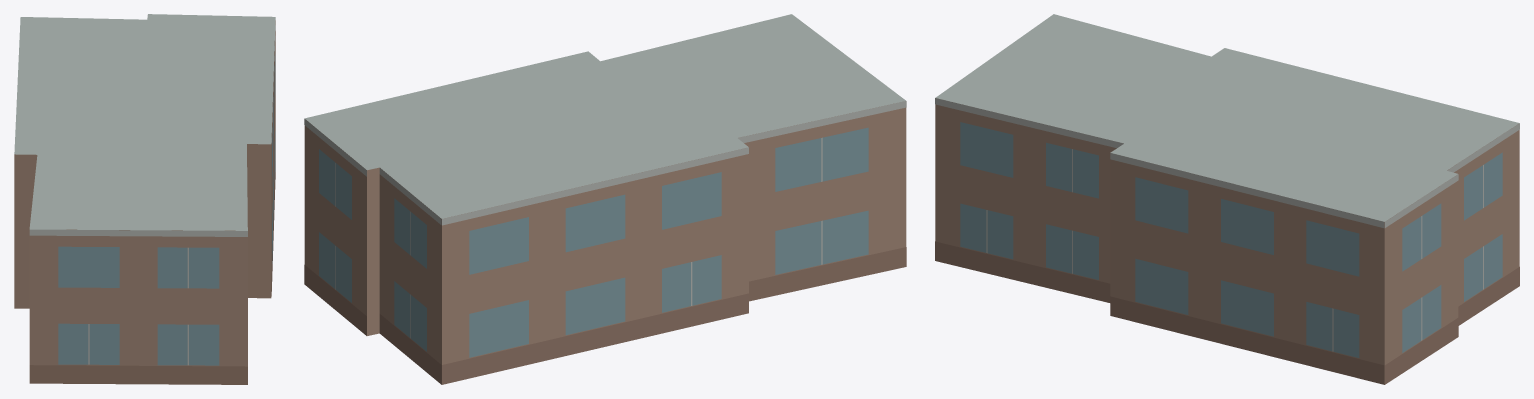
Rendered from survey-upis-32703958.glb.
The picture shows the model from 3 angles, left to right: view 1: azimuth 30°, elevation 25°; view 2: azimuth 150°, elevation 25°; view 3: azimuth 270°, elevation 25°; orthographic projection. The views are drawn at different scales.
Visible parts, largest first — view 1: survey-upis-32703958.tmp; view 2: survey-upis-32703958.tmp; view 3: survey-upis-32703958.tmp.
Boxes of the visible parts, x1,y1,x2,y2 form: survey-upis-32703958.tmp: [14, 14, 275, 384]; survey-upis-32703958.tmp: [304, 14, 906, 384]; survey-upis-32703958.tmp: [935, 14, 1519, 384].
Bounding box in the file's own units: 16.69 × 6.1 × 19.83.
